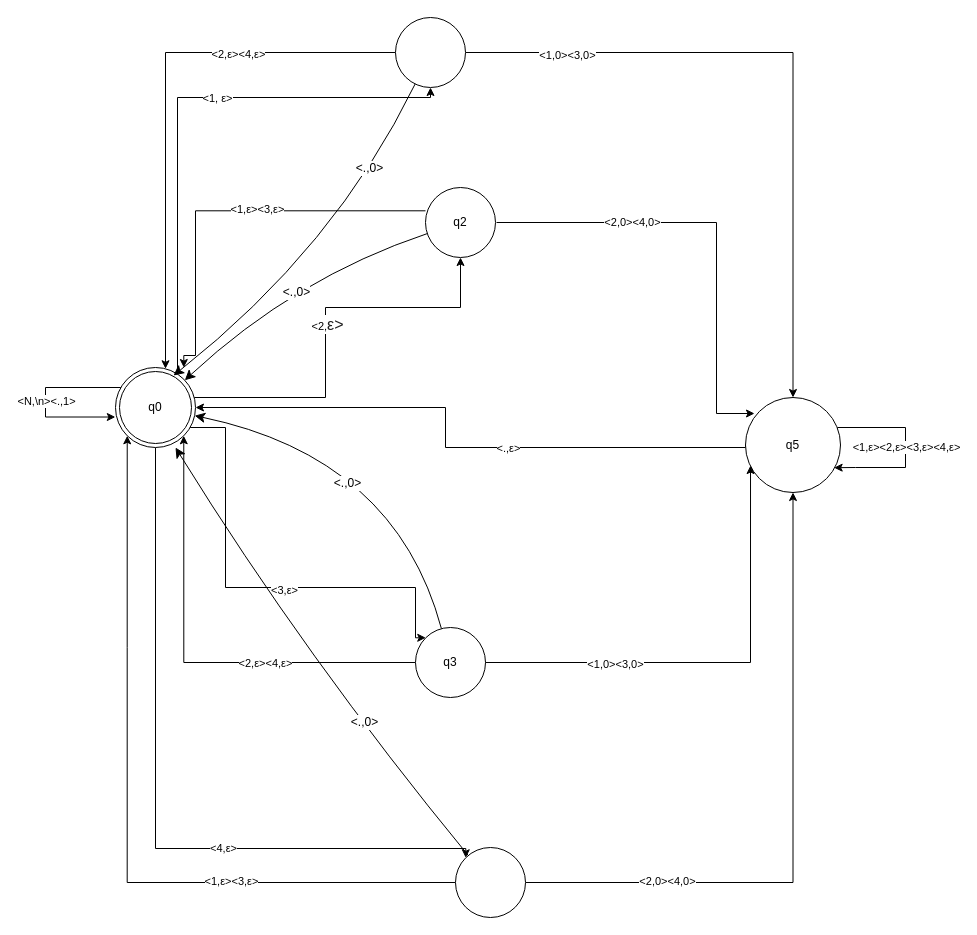
Image size: 977x935. Some labels were removed from this diagram. The centre of each missing label's shape, as x and y in pixels:
"q1" belongs at [430,52].
"q4" belongs at [490,882].
